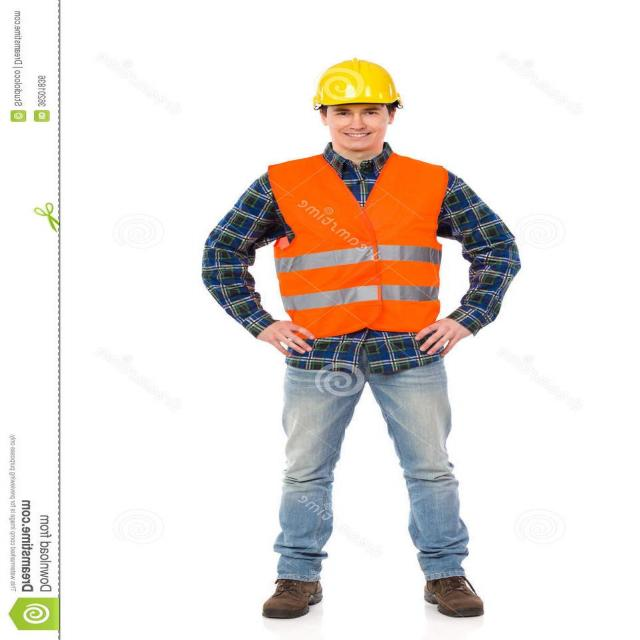Reflective-Jacket: (260, 153, 456, 343)
Safety-Helmet: (311, 55, 402, 108)
